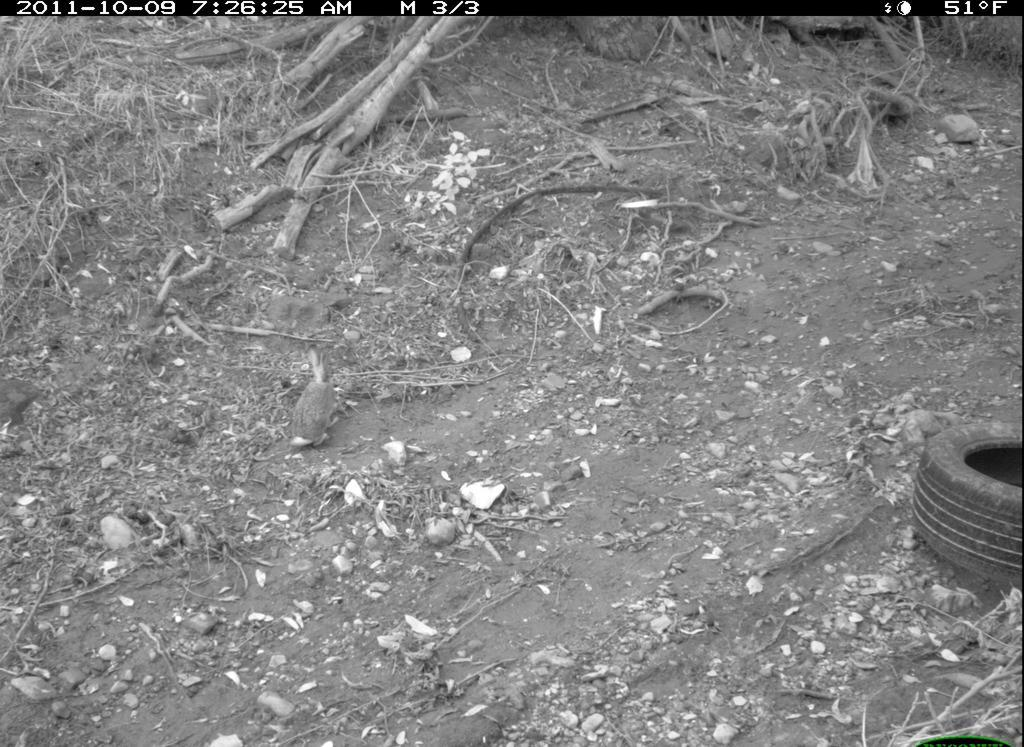rabbit: (280, 340, 344, 455)
